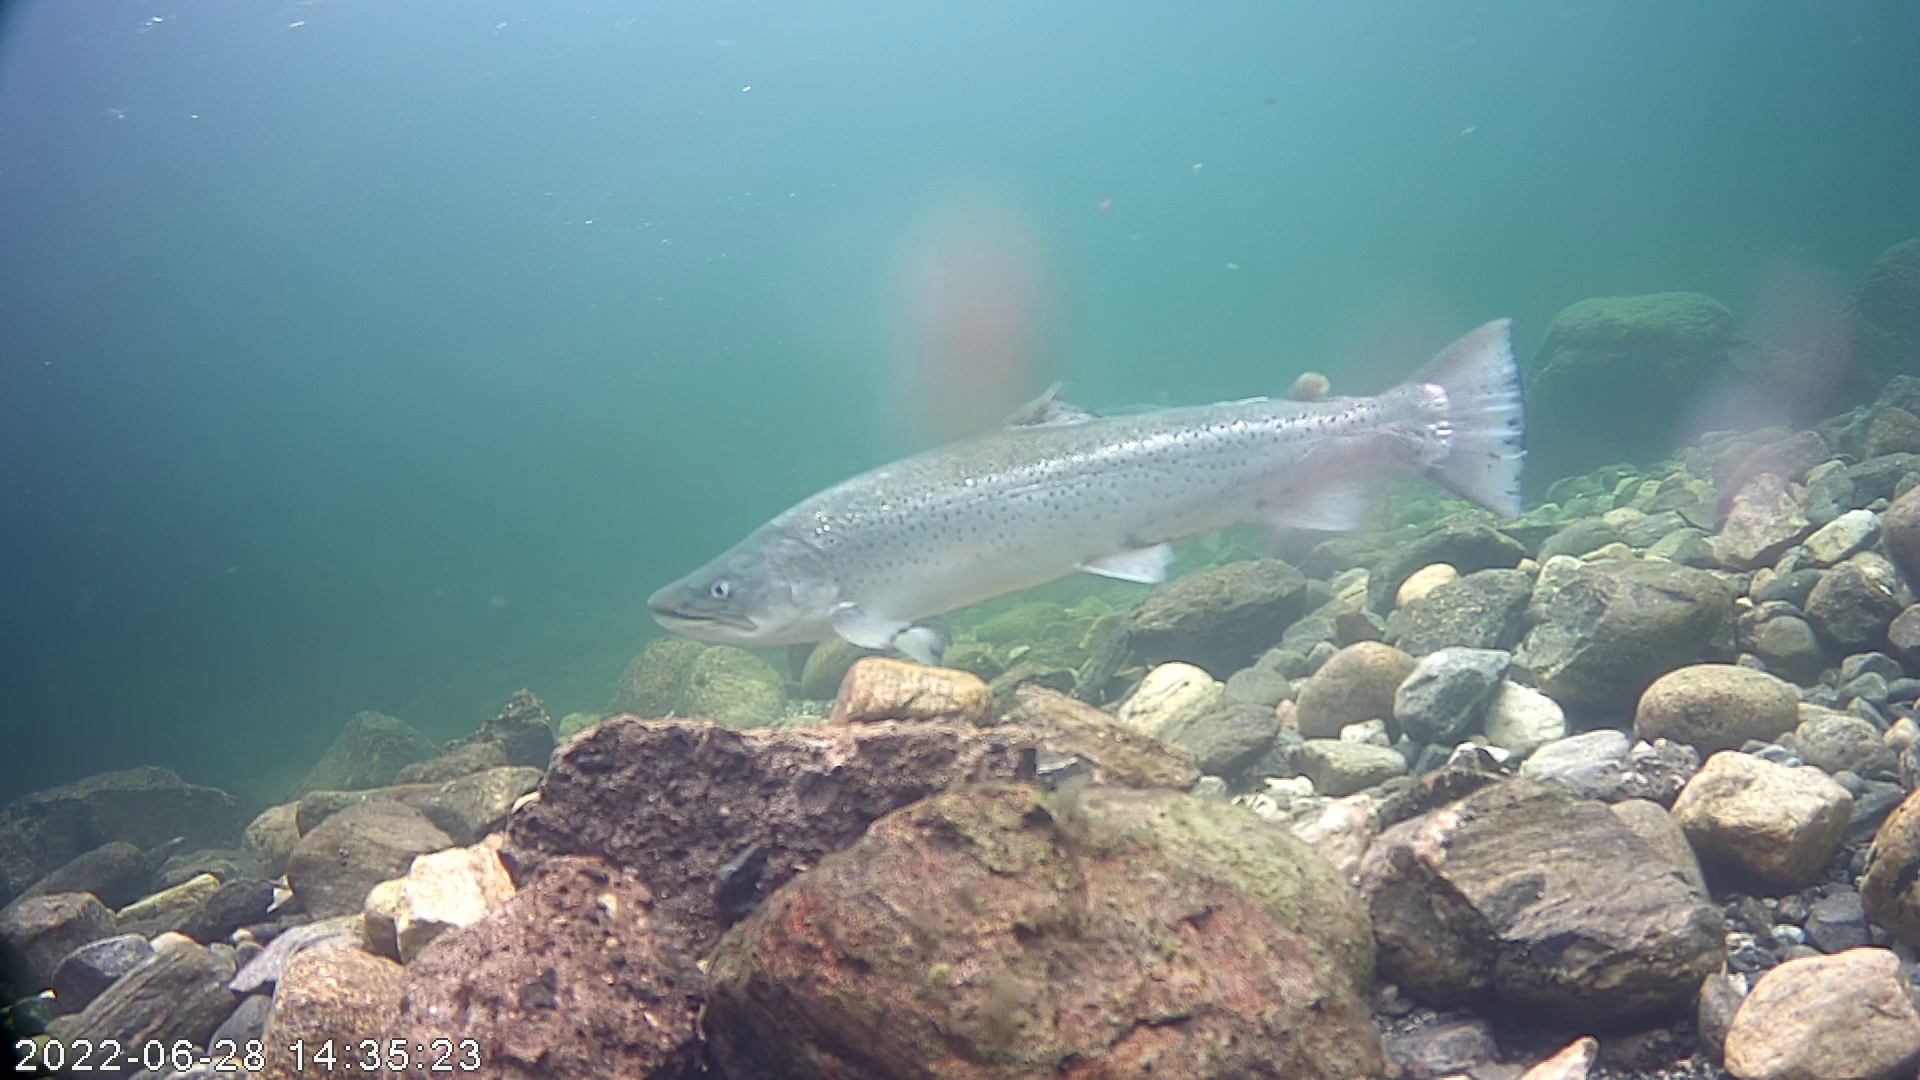salmon: (665, 233, 1565, 680)
